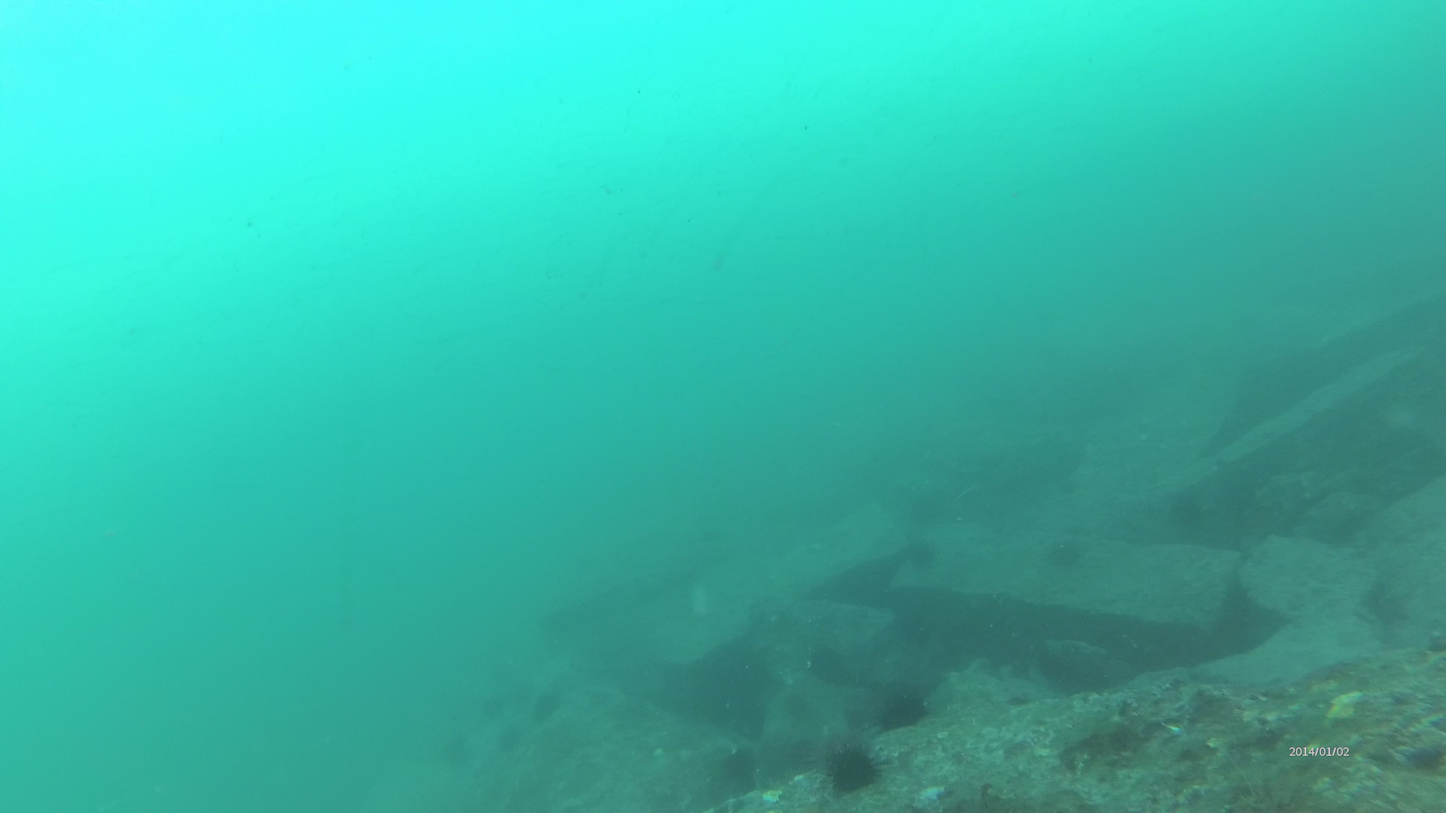starfish: (811, 749, 884, 786), (1050, 530, 1093, 568), (906, 545, 948, 571)
